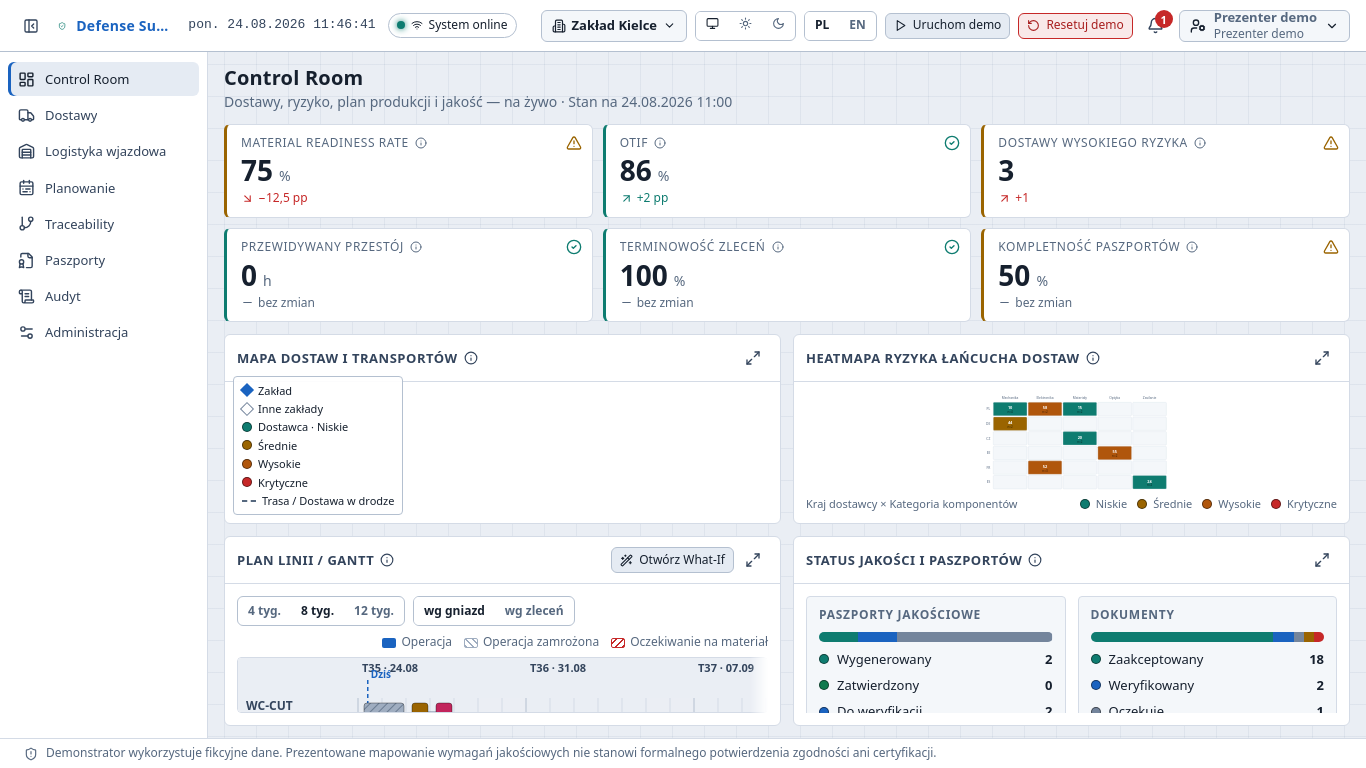
Test: plant switching › offers only the plants a supplier actually supplies
Expected: the text with test id "current-role" reads "Prezenter demo", [1214, 25, 1304, 42]
Click the button with test id "user-menu".
click(1264, 26)  # box [1179, 10, 1350, 42]
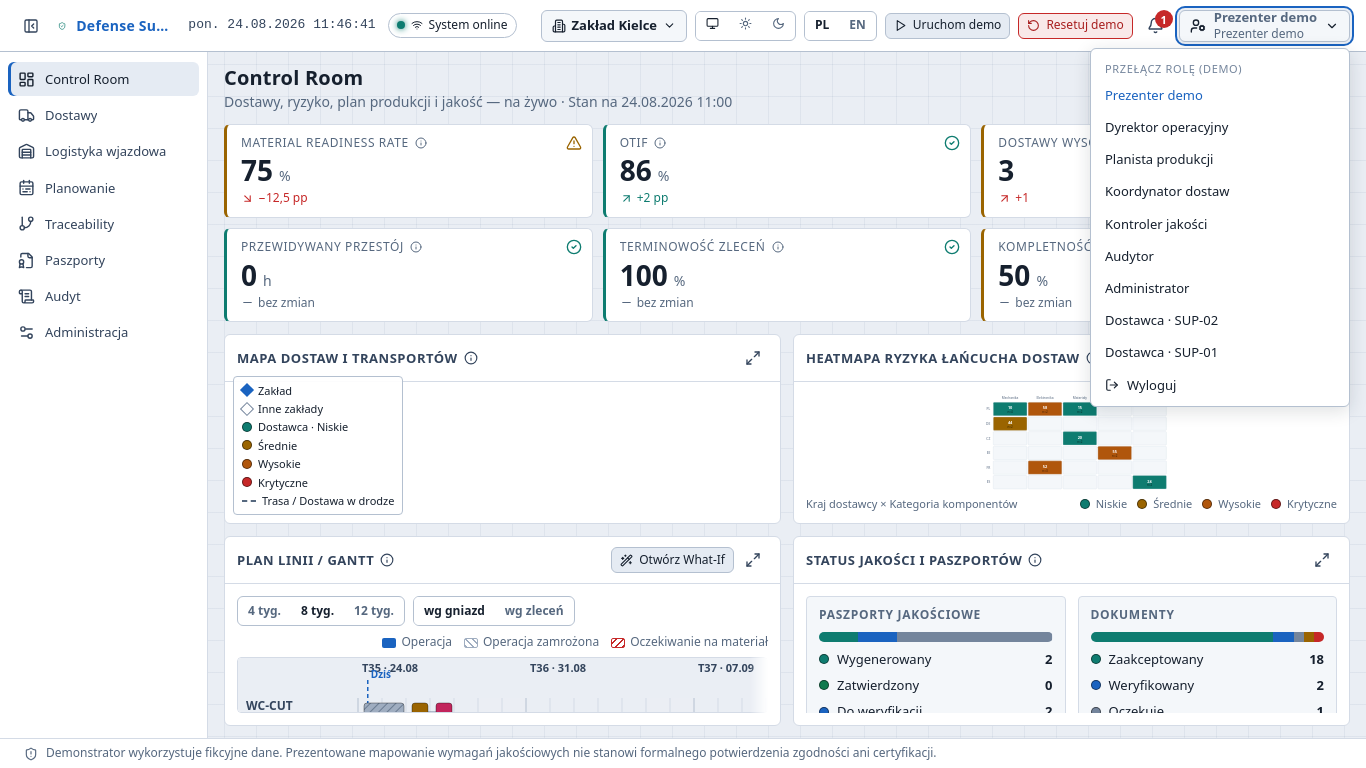
Click the menu item with test id "switch-role-SupplierUser-SUP-02".
click(1220, 320)  # box [1097, 305, 1343, 335]
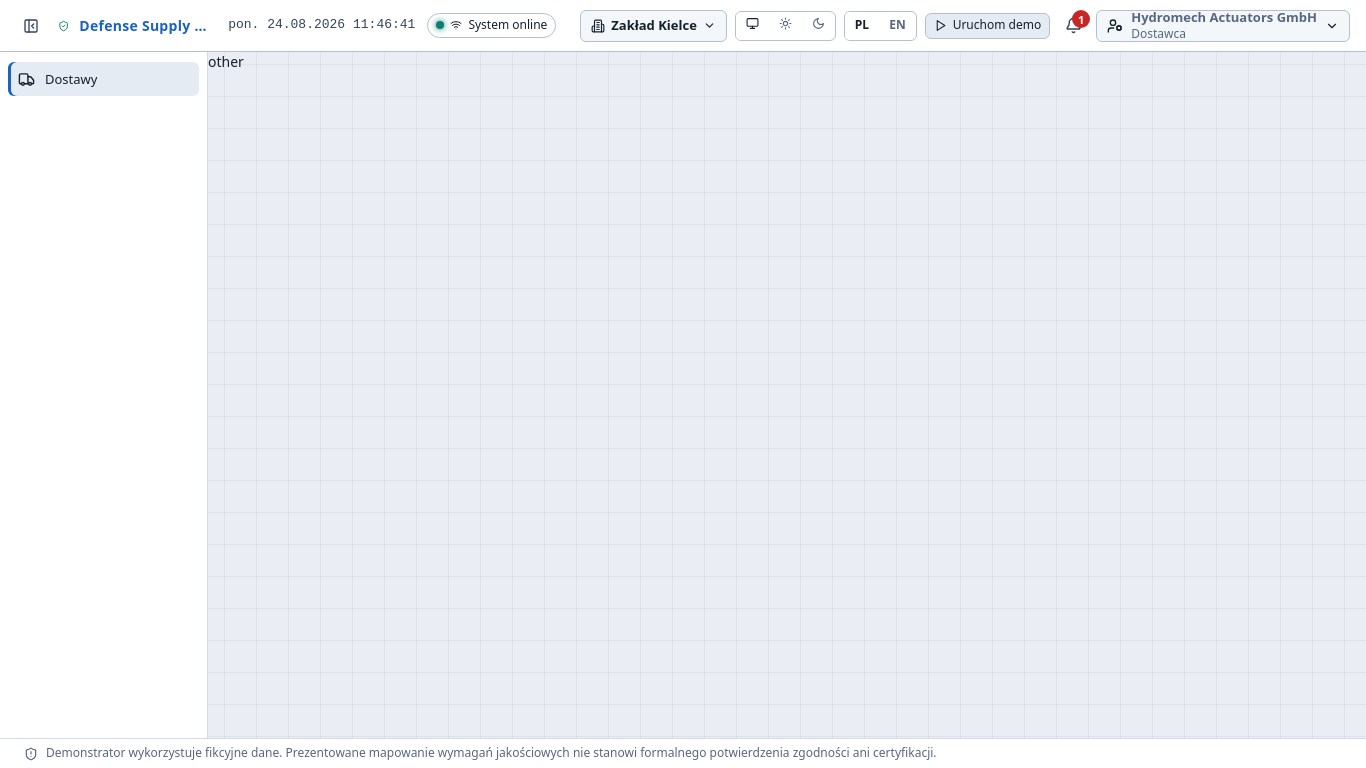
Expected: the text with test id "current-role" reads "Dostawca", [1131, 25, 1186, 42]
Click the button with test id "site-switch".
click(654, 26)  # box [580, 10, 727, 42]
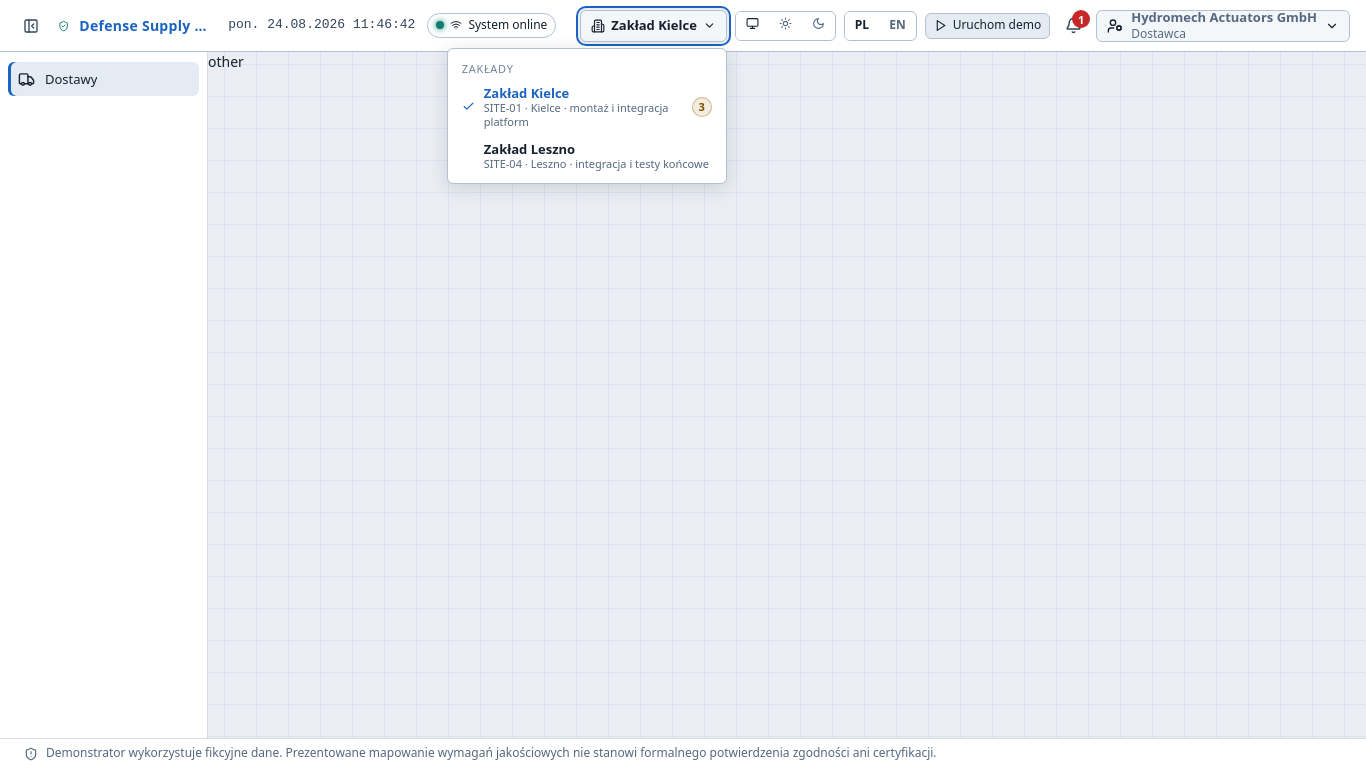
Expected: the option with test id "site-option-SITE-01" is shown, [454, 80, 720, 134]
Expected: the option with test id "site-option-SITE-04" is shown, [454, 136, 720, 177]
